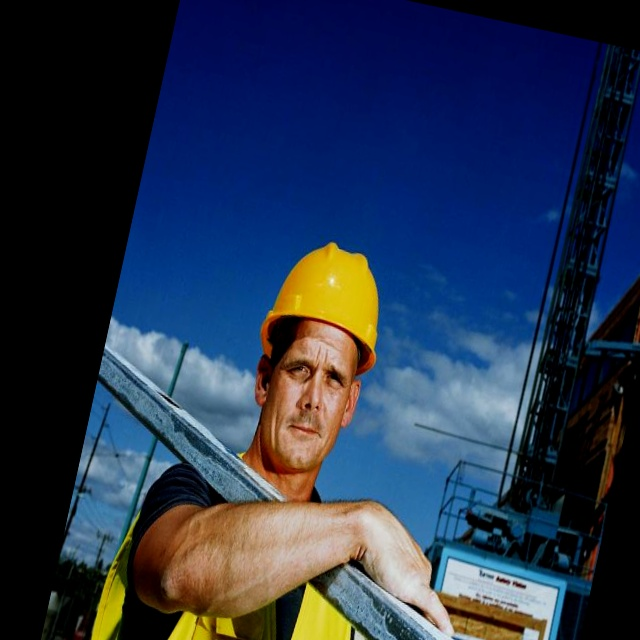Con_Casco: (237, 232, 397, 475)
Con_Chaleco: (90, 458, 400, 640)
